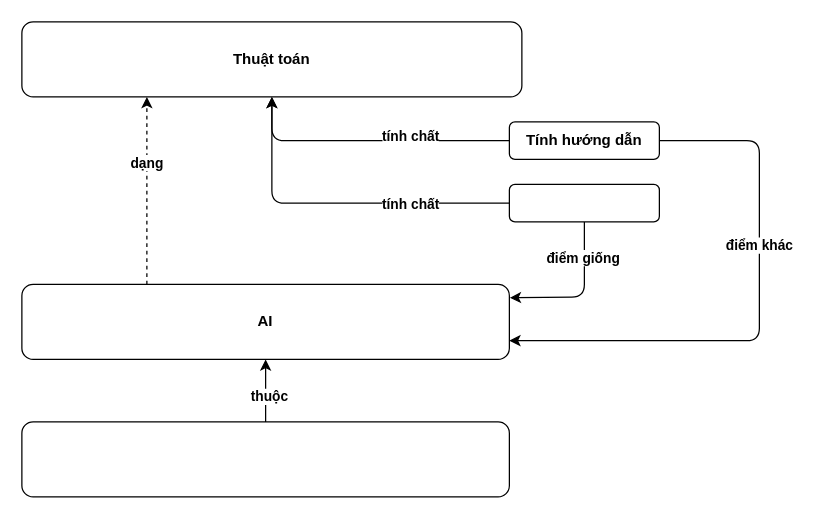
The diagram is 814 pixels wide and 519 high, and some of its shapes have lost their labels. The box of each missing label's shape, as (x1, y1, x2, y2) in pixels:
Giải quyết vấn đề: (508, 183, 659, 222)
Mạng lan truyền thẳng (FNN): (21, 421, 509, 497)
